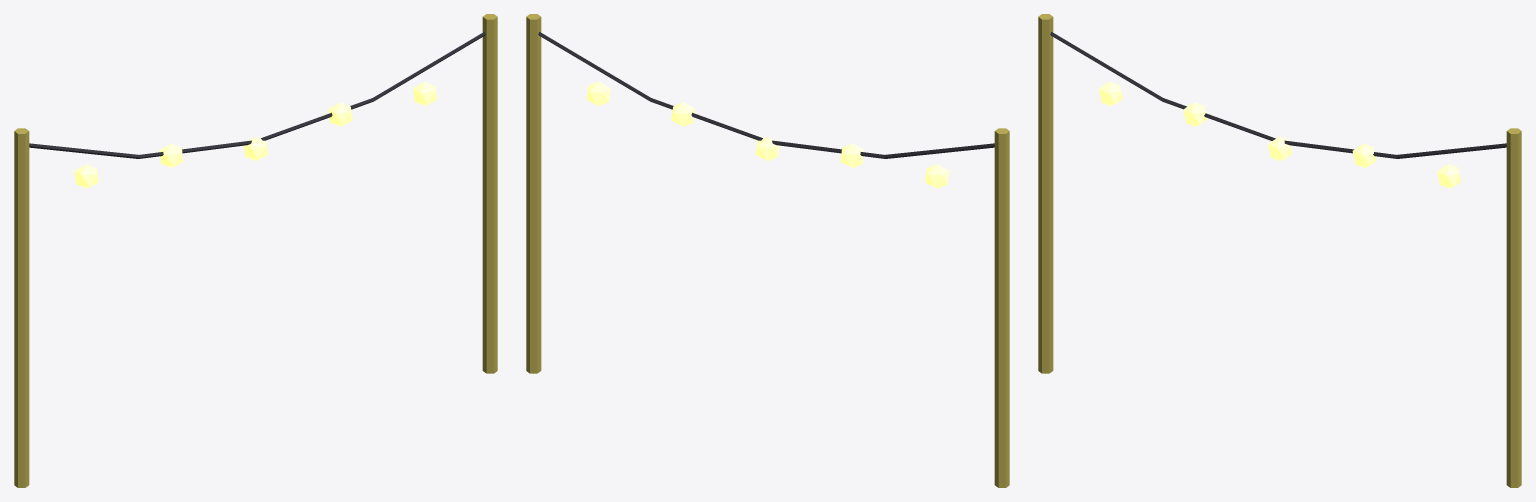
The model's file is string_lights.glb.
3 views of the same model, side by side, from view 1: azimuth 30°, elevation 25°; view 2: azimuth 150°, elevation 25°; view 3: azimuth 330°, elevation 25° (orthographic).
Visible parts, largest first — view 1: string_lights; view 2: string_lights; view 3: string_lights.
Boxes of the visible parts, x1,y1,x2,y2 form: string_lights: [14, 14, 497, 487]; string_lights: [526, 14, 1009, 487]; string_lights: [1038, 14, 1521, 487].
Size of the model in its own units: 3.69 by 2.6 by 0.1531.
